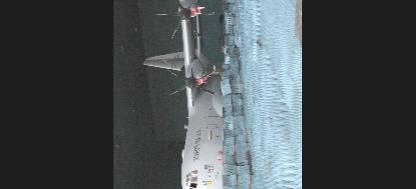Be200: (142, 0, 223, 188)
